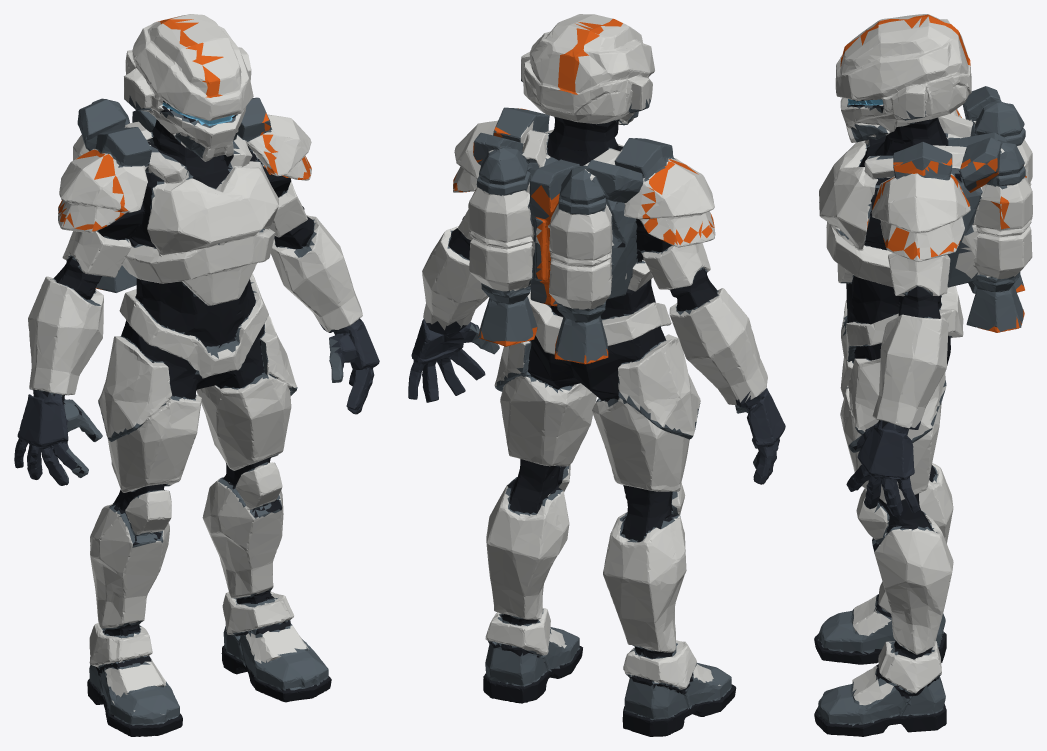
Rendered from engineer-arctic.glb.
3 views of the same model, side by side, from view 1: azimuth 30°, elevation 25°; view 2: azimuth 150°, elevation 25°; view 3: azimuth 270°, elevation 25° (orthographic). The views are drawn at different scales.
Visible parts, largest first — view 1: geometry_0.002; view 2: geometry_0.002; view 3: geometry_0.002.
Boxes of the visible parts, x1,y1,x2,y2 form: geometry_0.002: (14,14,379,736); geometry_0.002: (408,14,785,736); geometry_0.002: (814,14,1032,736).
Size of the model in its own units: 0.2779 by 0.501 by 0.1492.
